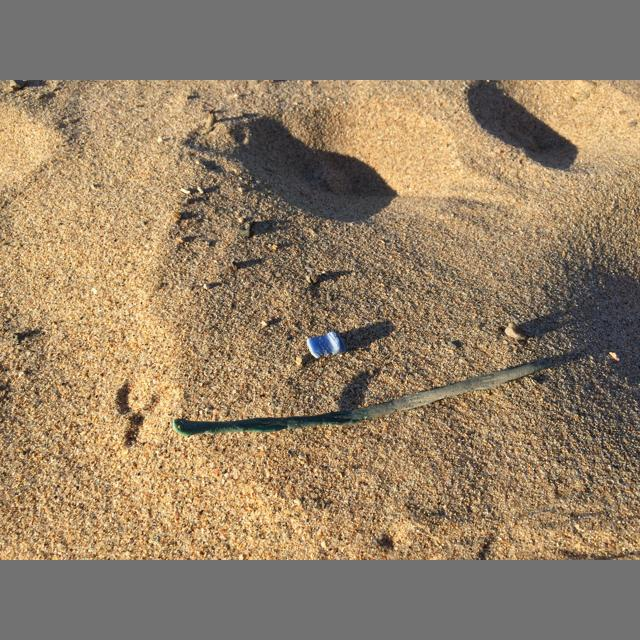litter: (172, 361, 550, 436), (306, 331, 346, 359)
